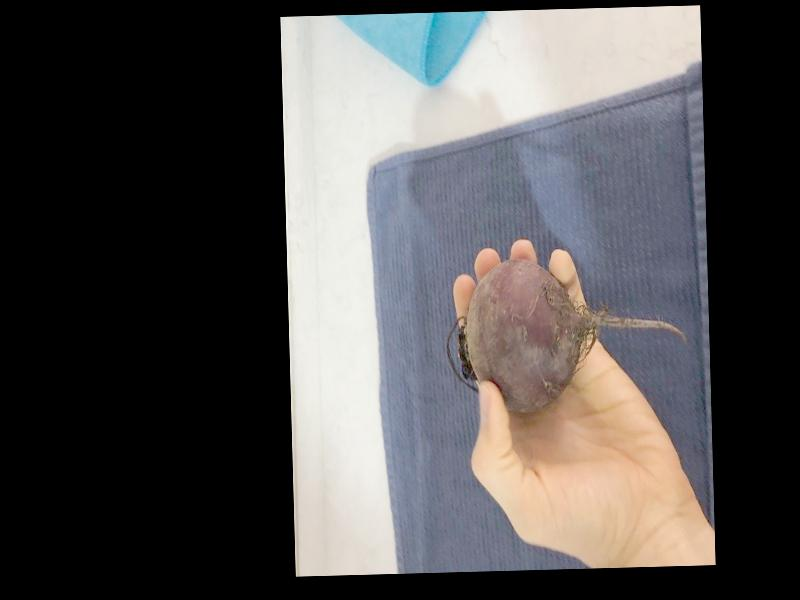Beet: (444, 253, 688, 414)
